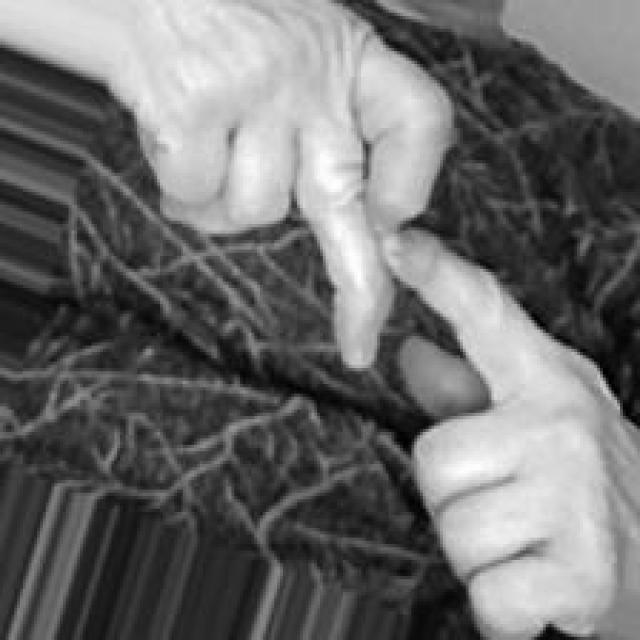R: (114, 2, 640, 640)
